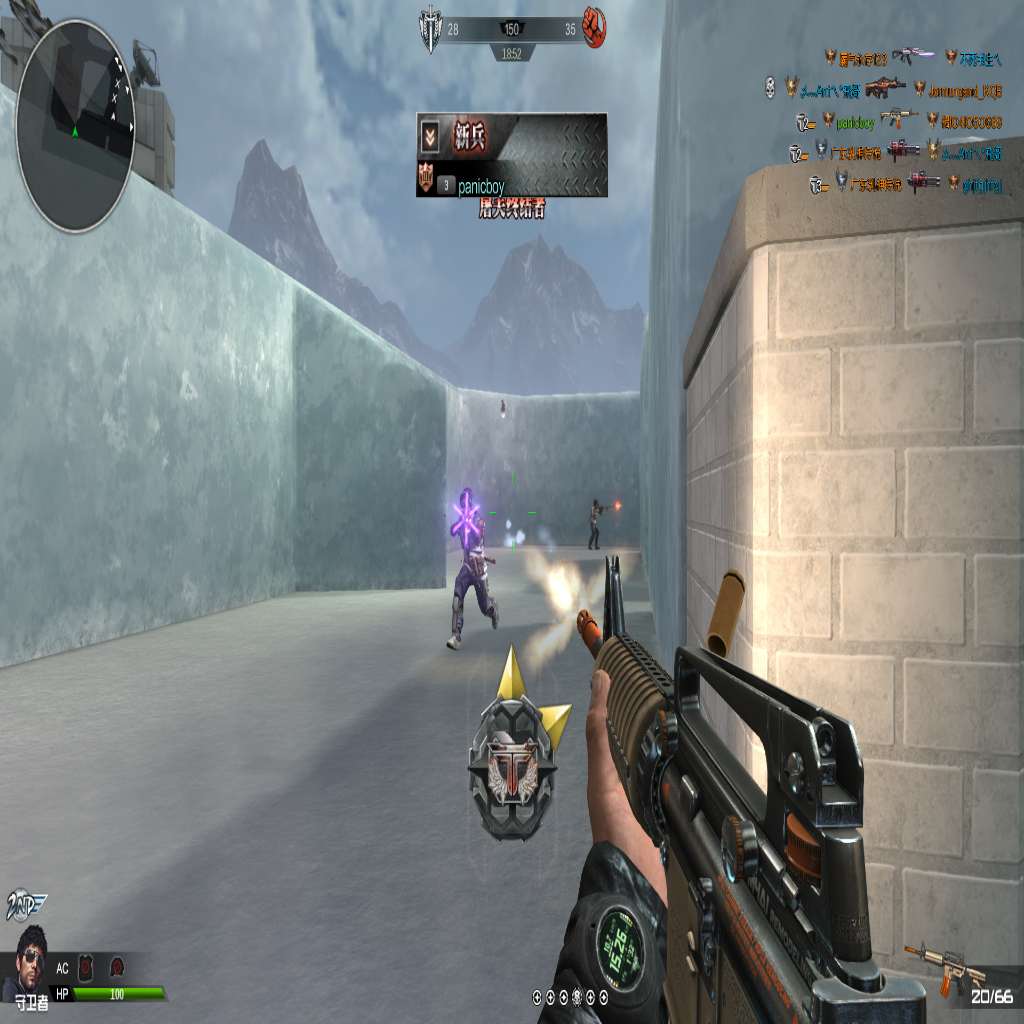tt: (446, 490, 499, 650), (588, 497, 603, 549)
